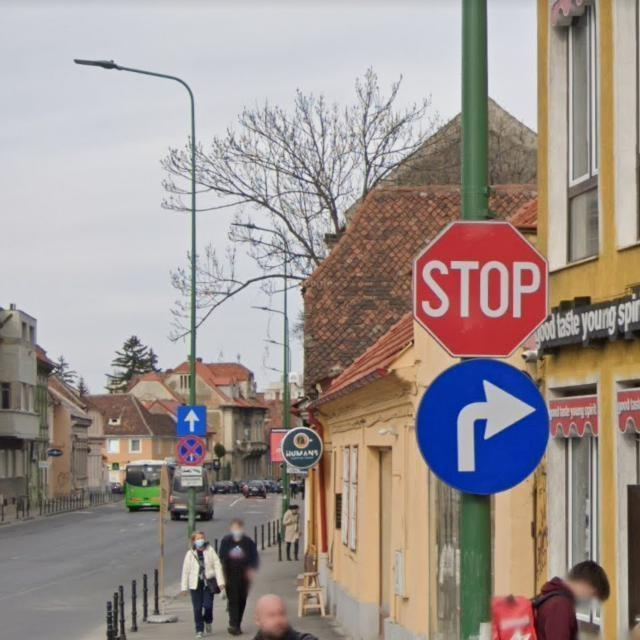forb_waiting: (176, 436, 207, 467)
prio_stop: (410, 220, 545, 360)
